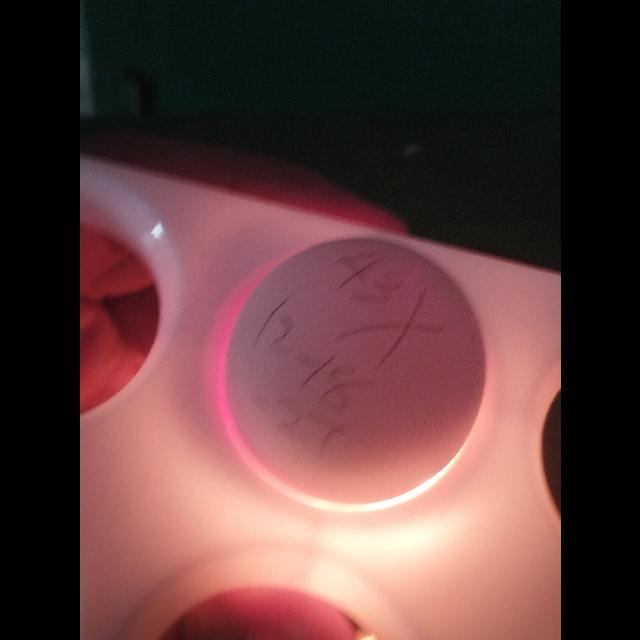Fertile: (220, 228, 490, 516)
